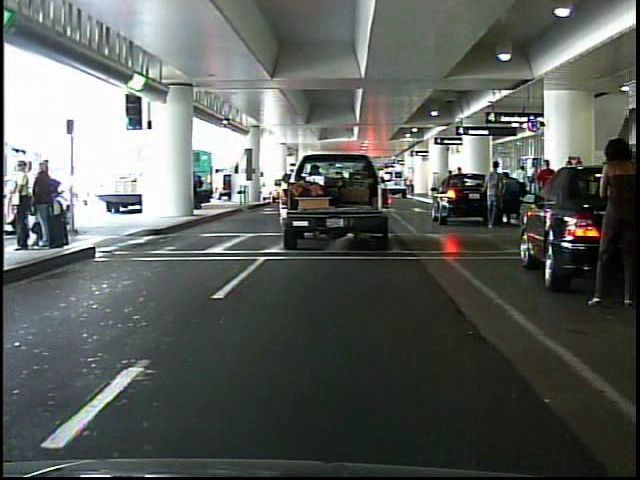person: (584, 135, 636, 307), (476, 155, 510, 234)
